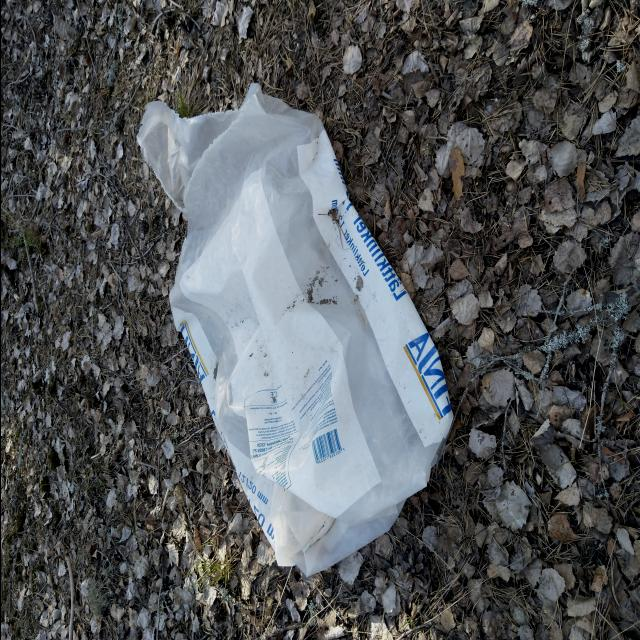Plastic film: (136, 82, 453, 577)
